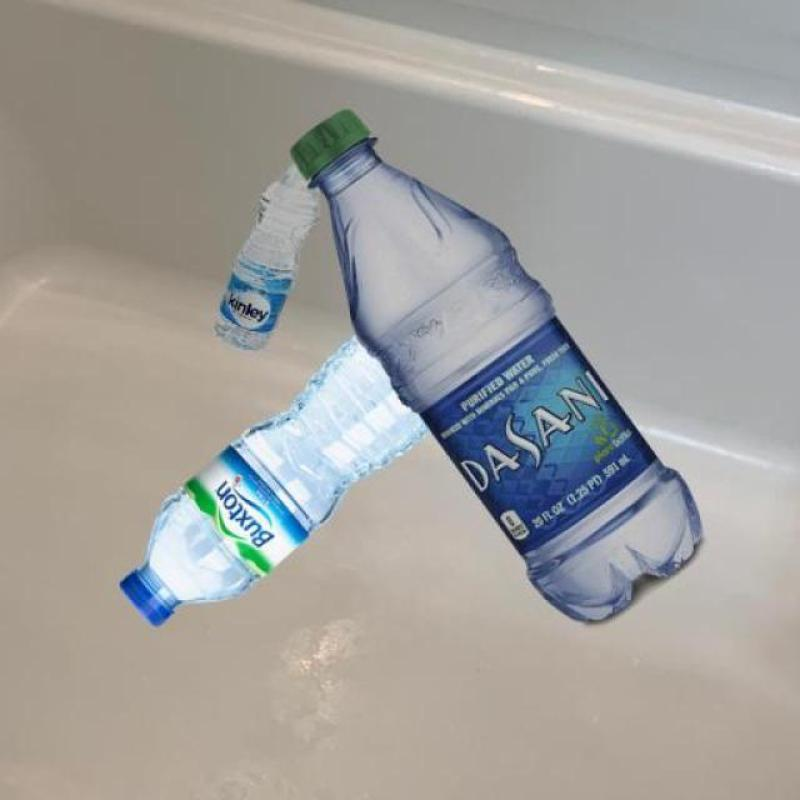botella: (290, 107, 701, 624), (118, 334, 432, 628), (215, 160, 320, 348)
